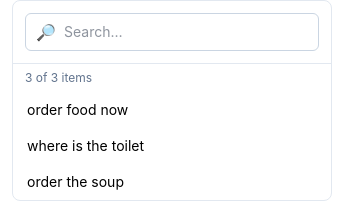
Test: SearchableList › filters rows by searchText as the user types
This screenshot has width=349, height=218.
Type "order" into the search field. click: (186, 32)
box: 64,22 -> 308,42
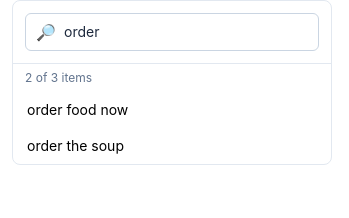
Expected: the text "order food now" is shown, 27,101 -> 128,118
Now the button "where is the toilet" is gone
Now the text "2 of 3 items" is shown, box 25,70 -> 92,85
